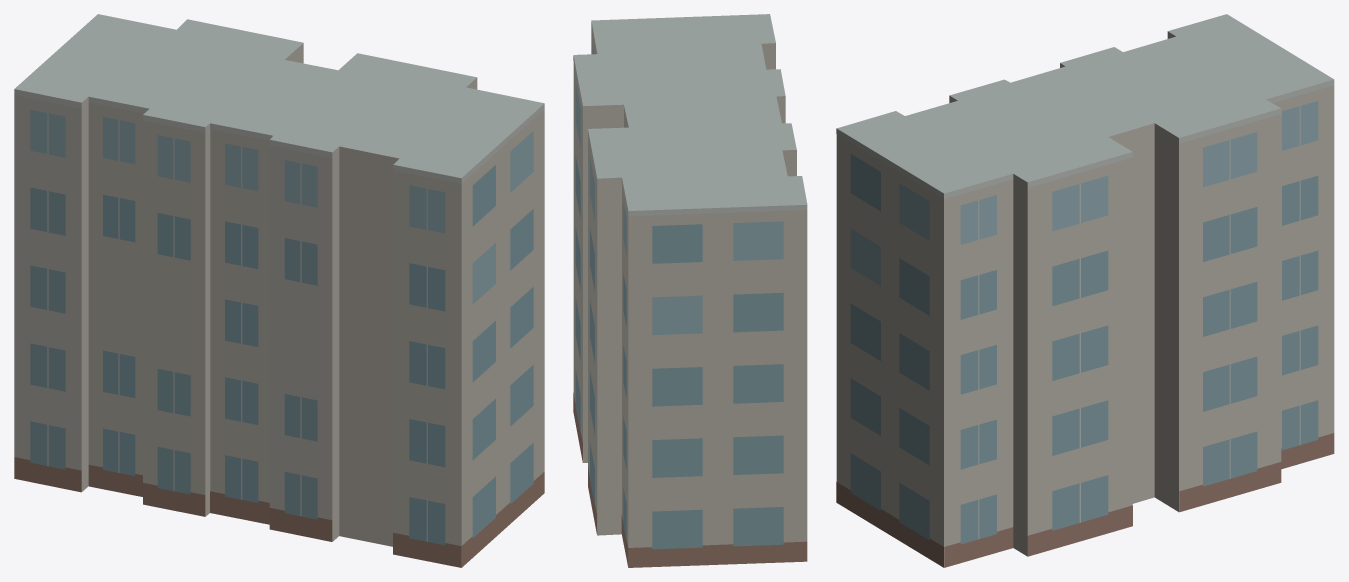
File: survey-upis-32630622.glb
3 views of the same model, side by side, from view 1: azimuth 30°, elevation 25°; view 2: azimuth 150°, elevation 25°; view 3: azimuth 270°, elevation 25° (orthographic). The views are drawn at different scales.
Visible parts, largest first — view 1: survey-upis-32630622.tmp; view 2: survey-upis-32630622.tmp; view 3: survey-upis-32630622.tmp.
Boxes of the visible parts, bbox=[...] form: survey-upis-32630622.tmp: bbox=[14, 14, 544, 567]; survey-upis-32630622.tmp: bbox=[573, 14, 807, 567]; survey-upis-32630622.tmp: bbox=[836, 14, 1334, 567].
Bounding box in the file's own units: 16.81 × 16.33 × 19.69.
